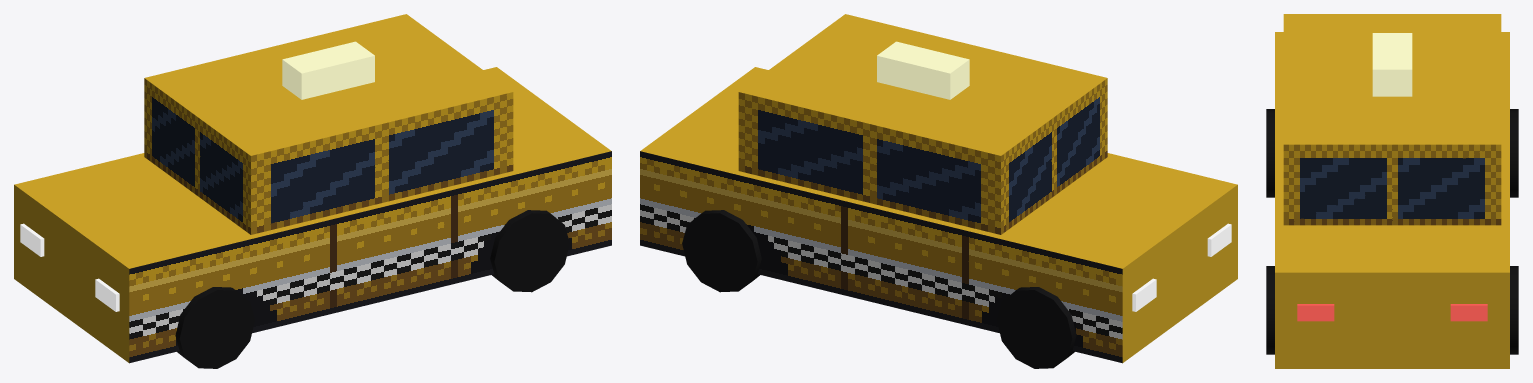
Rendered from Auto_2.glb.
3 views of the same model, side by side, from view 1: azimuth 30°, elevation 25°; view 2: azimuth 150°, elevation 25°; view 3: azimuth 270°, elevation 25° (orthographic). The views are drawn at different scales.
Visible parts, largest first — view 1: Auto_2; view 2: Auto_2; view 3: Auto_2.
Boxes of the visible parts, x1,y1,x2,y2 form: Auto_2: [14, 14, 611, 368]; Auto_2: [640, 14, 1237, 368]; Auto_2: [1266, 14, 1518, 368].
Size of the model in its own units: 4.67 by 2.04 by 2.04.
Materials: 7 (2 with a texture image).
